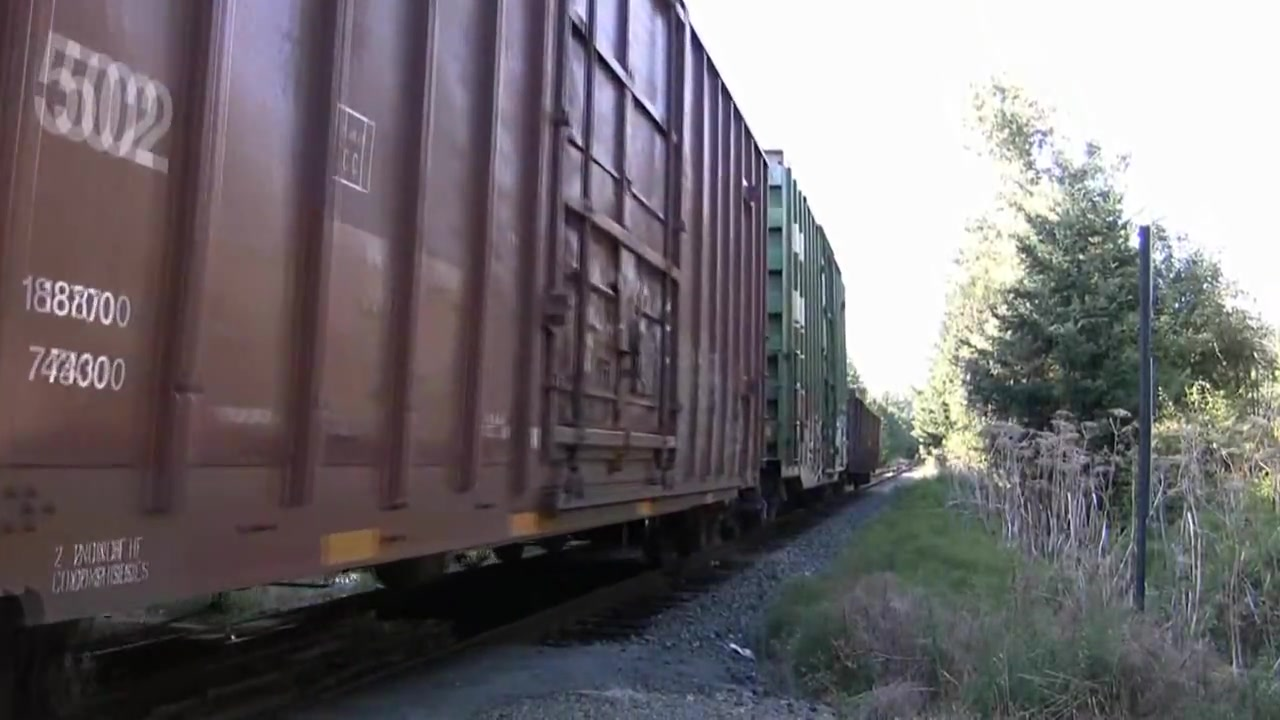train: (1, 1, 887, 720)
